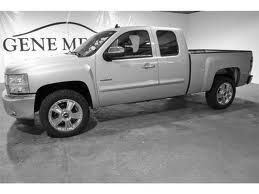car: (2, 24, 255, 138)
